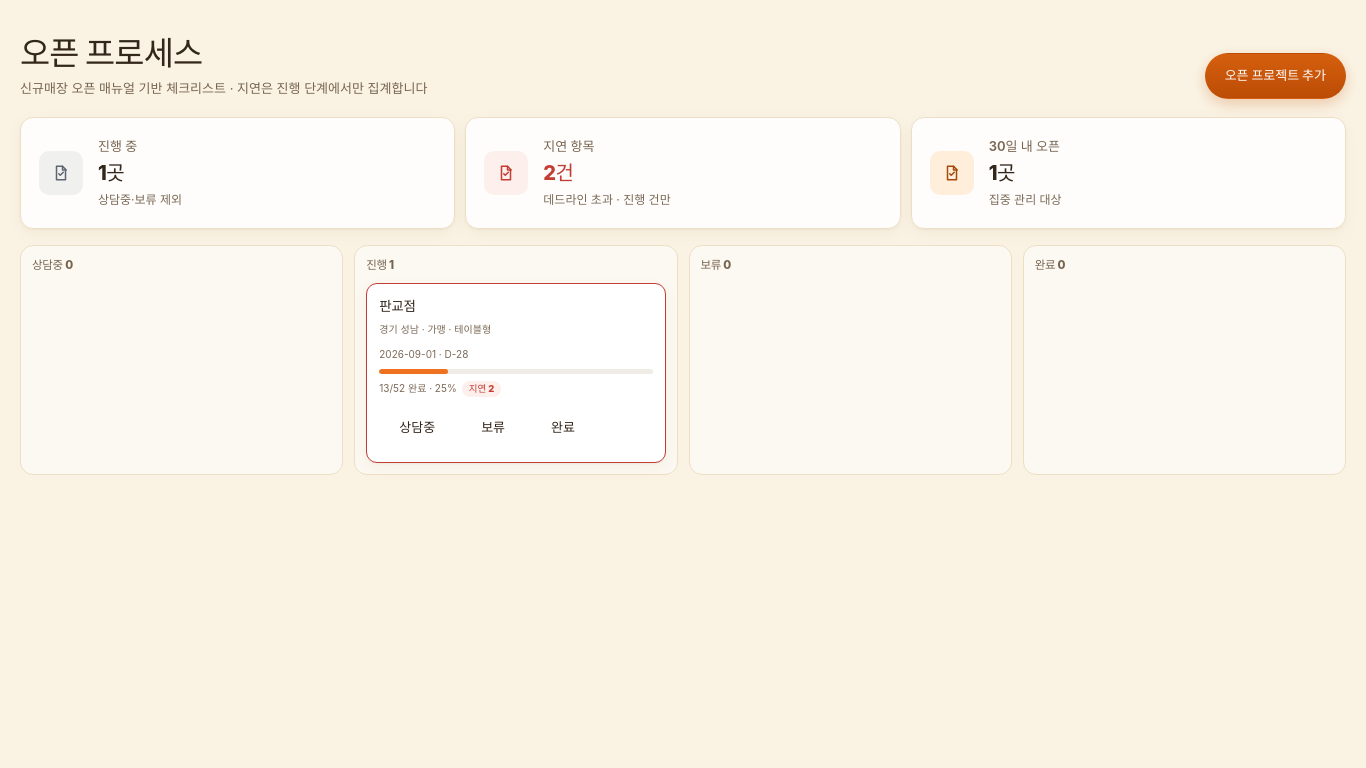
Test: POS 현장 운영 화면 › 오픈: 칸반 단계별 카드와 지연을 표시하고 상세 체크리스트를 연다
Check: the element with class "card-alert" is shown, box [366, 283, 666, 464]
What coordinates should you click on to do the following:
click the button with class "kanban-title"
I would click on:
 (397, 306)
Its box is [379, 296, 653, 340].
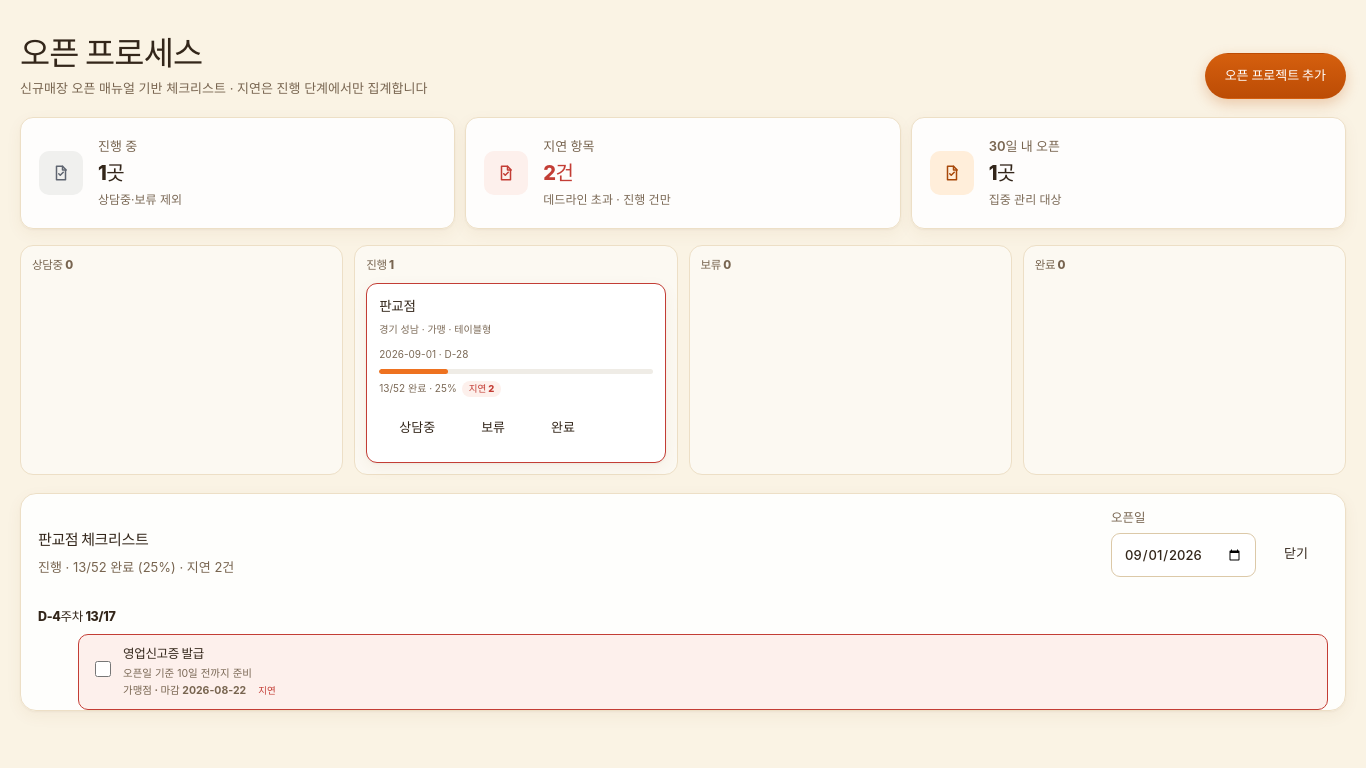
Check: the text "영업신고증 발급" is shown, box [123, 646, 204, 661]
Check: the text "마감 2026-08-22" is shown, box [123, 683, 283, 699]
Check: the list item with class "task-overdue" is shown, box [78, 634, 1328, 710]
